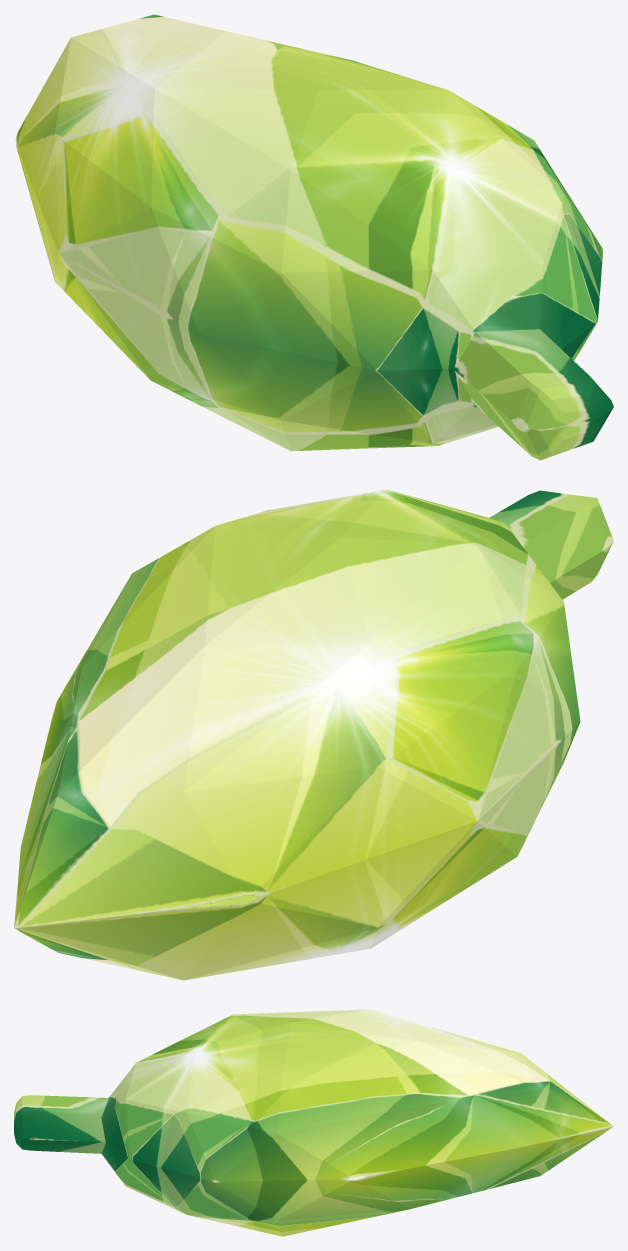
3 views of the same model, one above another, from view 1: azimuth 30°, elevation 25°; view 2: azimuth 150°, elevation 25°; view 3: azimuth 270°, elevation 25° (orthographic). The views are drawn at different scales.
Visible parts, largest first — view 1: Icosphere; view 2: Icosphere; view 3: Icosphere.
Part boxes in pixels (x1,y1,x2,y2): Icosphere: (16, 14, 613, 460); Icosphere: (14, 489, 613, 980); Icosphere: (14, 1009, 613, 1236).
Bounding box in the file's own units: 2.61 × 2 × 5.61.
Materials: 1 (1 with a texture image).
